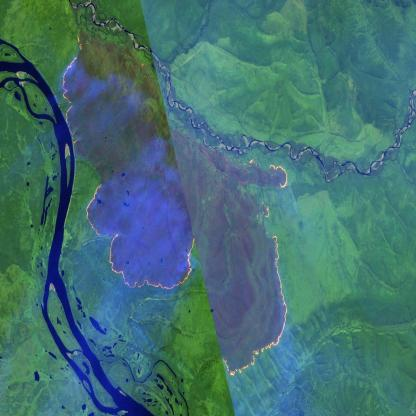fire: (57, 26, 294, 380)
